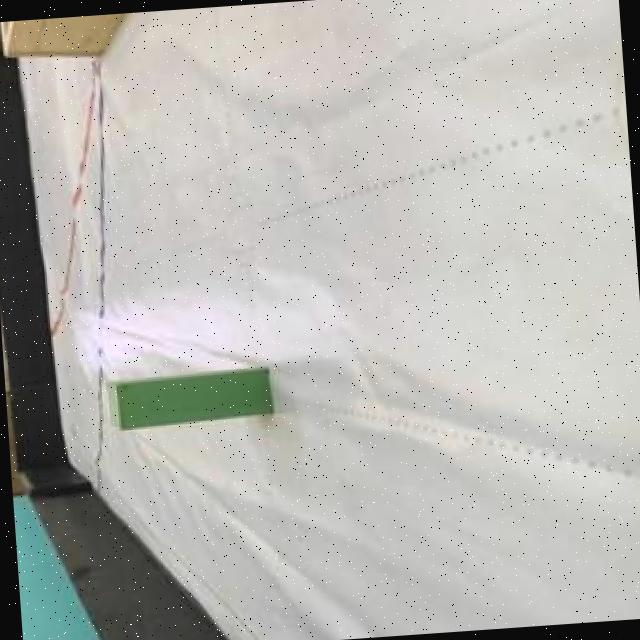greenbox: (109, 365, 272, 430)
